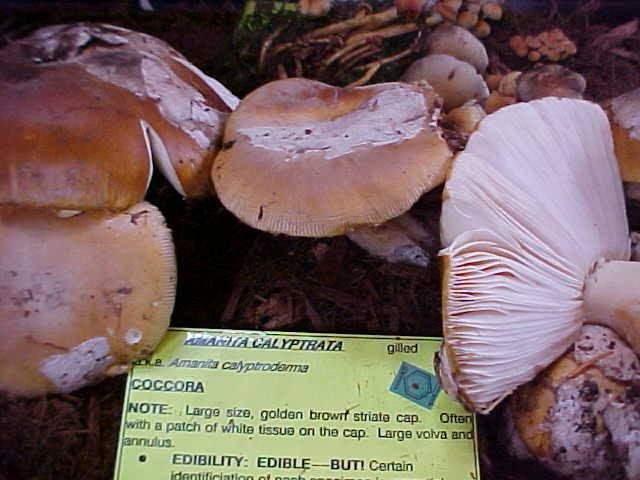Edible Mushroom: (433, 94, 634, 415), (0, 60, 178, 397), (1, 20, 239, 200), (210, 75, 453, 239)
